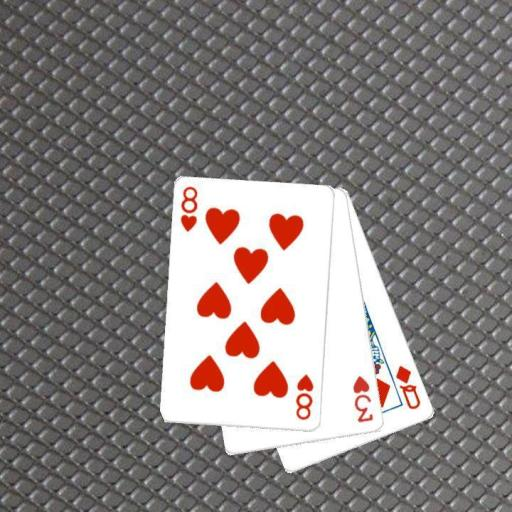card-corner: (392, 362, 422, 411), (350, 372, 375, 424), (177, 184, 200, 234), (293, 371, 315, 422)
